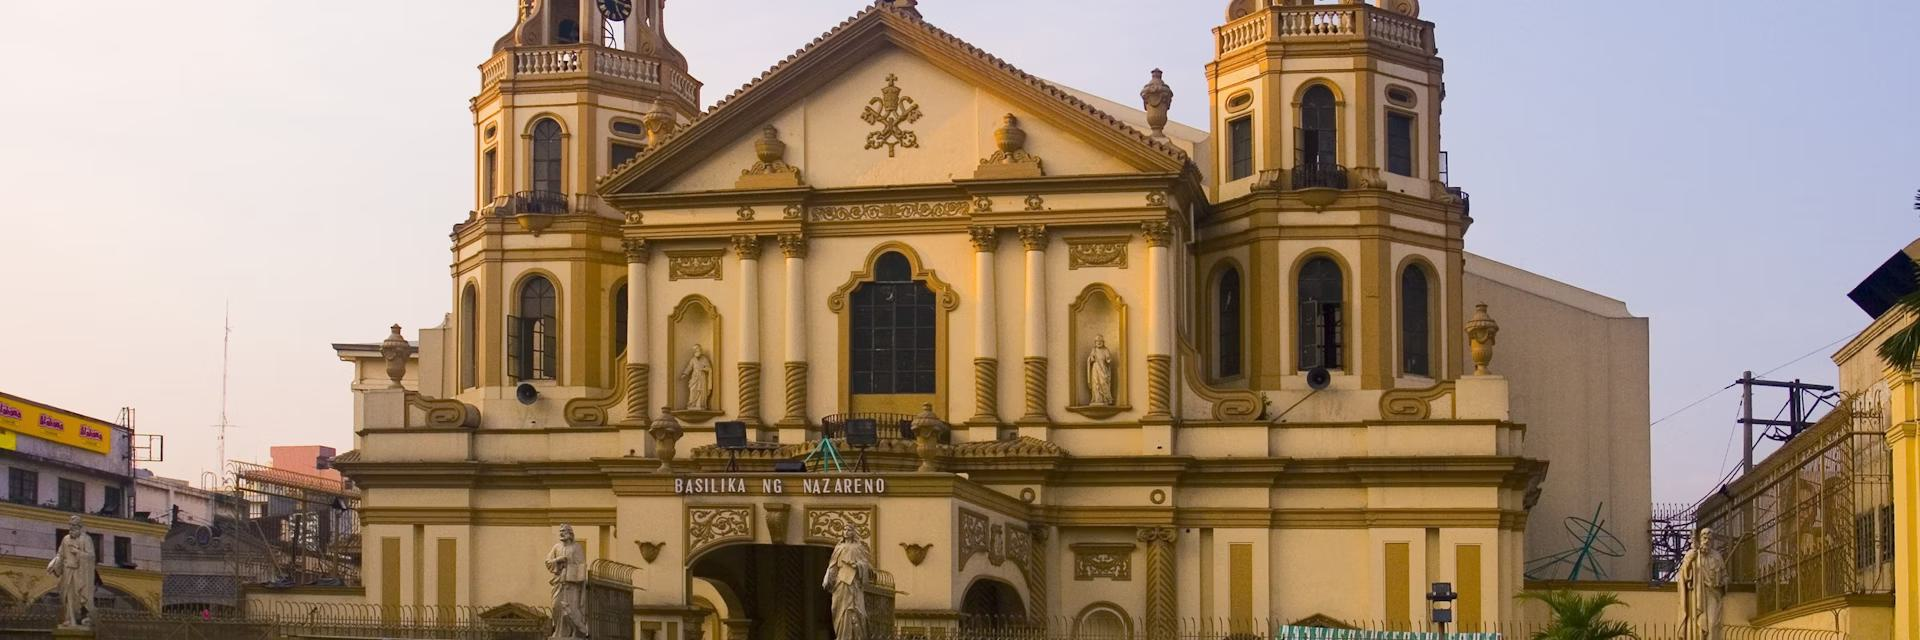quiapo_church_quiapo_manila: (405, 2, 1547, 640)
